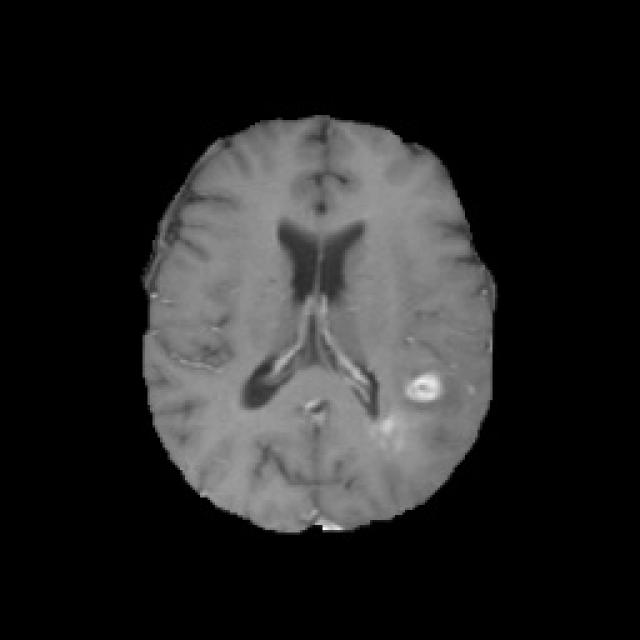negative: (405, 370, 443, 402)
